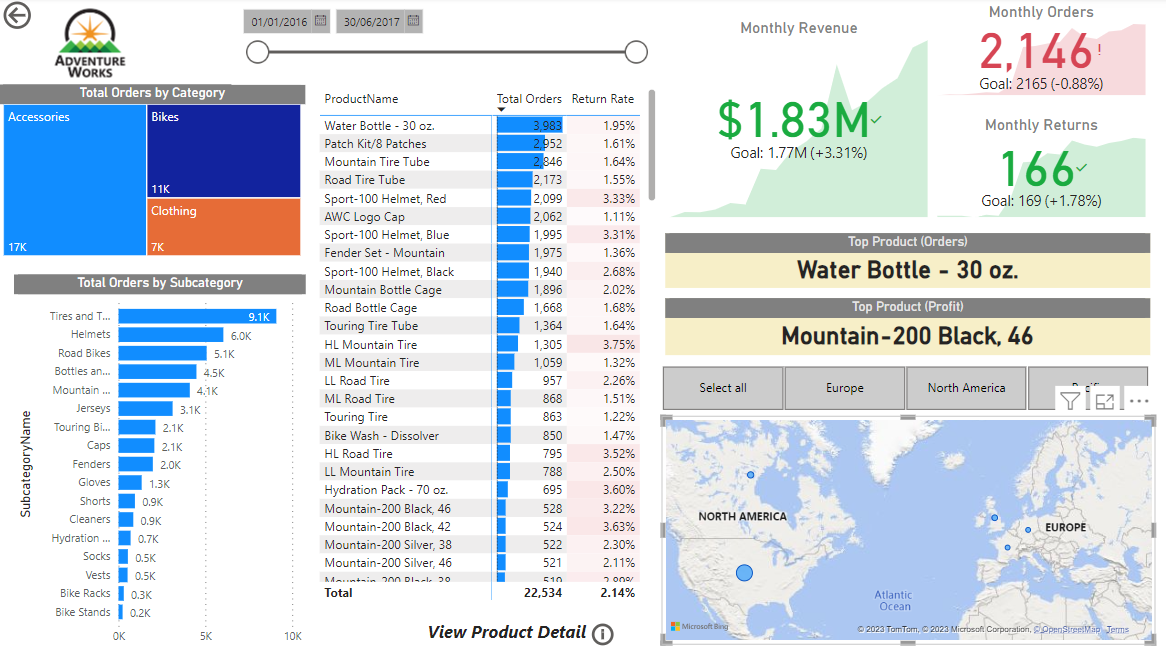

Layout of this report page (visuals, bound fields, positions):
{"tool":"powerbi","page":{"name":"Exec Summary","canvas":[1280,720],"ordinal":0},"visuals":[{"type":"barChart","title":"Total Orders by Subcategory","fields":{"Y":["AW_Sales.Total Orders"],"Category":["AW_Product_Subcategory_Lookup.SubcategoryName"]},"box":[15.9,304.4,320.3,415.6],"z":0},{"type":"actionButton","box":[0,0,100,40],"z":1000},{"type":"treemap","title":"Total Orders by Category","fields":{"Group":["AW_Product_Category_Lookup.CategoryName","AW_Product_Subcategory_Lookup.SubcategoryName"],"Values":["AW_Sales.Total Orders"]},"box":[0,96.6,336.2,193.1],"z":2000},{"type":"pivotTable","fields":{"Values":["AW_Sales.Total Orders","AW_Returns.Return Rate"],"Rows":["AW_Product_Category_Lookup.CategoryName","AW_Product_Subcategory_Lookup.SubcategoryName","AW_Product_Lookup.ProductName"]},"box":[347.2,95.3,378.9,570.9],"z":3000},{"type":"slicer","fields":{"Values":["AW_Calendar_Lookup.Date"]},"box":[255,2.7,464.8,93.2],"z":4000},{"type":"kpi","title":"Monthly Revenue","fields":{"Indicator":["AW_Sales.Total Revenue"],"TrendLine":["AW_Calendar_Lookup.Start of Month"],"Goal":["AW_Sales.Prev Month Revenue"]},"box":[731,23.2,293.4,223.7],"z":5000},{"type":"kpi","title":"Monthly Orders","fields":{"TrendLine":["AW_Calendar_Lookup.Start of Month"],"Indicator":["AW_Sales.Total Orders"],"Goal":["AW_Sales.Prev Month Orders"]},"box":[1024.4,4.9,238.4,107.6],"z":6000},{"type":"kpi","title":"Monthly Returns","fields":{"TrendLine":["AW_Calendar_Lookup.Start of Month"],"Indicator":["AW_Returns.Total Returns"],"Goal":["AW_Returns.Prev Month Returns"]},"box":[1024.4,130.8,238.4,116.1],"z":7000},{"type":"card","title":"Top Product (Orders)","fields":{"Values":["Min(AW_Product_Lookup.ProductName)"]},"box":[731,259.2,531.7,59.9],"z":8000},{"type":"card","title":"Top Product (Profit)","fields":{"Values":["Min(AW_Product_Lookup.ProductName)"]},"box":[731,330.1,531.7,62.3],"z":9000},{"type":"map","fields":{"Category":["AW_Territories_Lookup.Country"],"Size":["AW_Sales.Total Orders"]},"box":[726.1,459.6,542.8,250.6],"z":10000},{"type":"slicer","fields":{"Values":["AW_Territories_Lookup.Continent"]},"box":[707.8,403.4,572.1,51.3],"z":11000},{"type":"textbox","box":[464.8,678.7,193.3,41.1],"z":12000},{"type":"actionButton","box":[645.8,682.8,61.7,32.9],"z":13000},{"type":"image","box":[36.7,2.4,125.9,95.3],"z":14000}]}

Visuals, with their boxes in screenshot pixels (x1, y1, x2, y2), scaled from the page's 1280x720 canvas onto the 1166x652 screenshot:
"Total Orders by Subcategory" barChart: (14,276,306,651)
actionButton: (0,0,91,36)
"Total Orders by Category" treemap: (0,87,306,262)
pivotTable - AW_Sales.Total Orders x AW_Returns.Return Rate: (316,86,661,603)
slicer - AW_Calendar_Lookup.Date: (232,2,656,87)
"Monthly Revenue" kpi: (666,21,933,224)
"Monthly Orders" kpi: (933,4,1150,102)
"Monthly Returns" kpi: (933,118,1150,224)
"Top Product (Orders)" card: (666,235,1150,289)
"Top Product (Profit)" card: (666,299,1150,355)
map - AW_Territories_Lookup.Country x AW_Sales.Total Orders: (661,416,1156,643)
slicer - AW_Territories_Lookup.Continent: (645,365,1165,412)
textbox: (423,615,599,651)
actionButton: (588,618,644,648)
image: (33,2,148,88)
